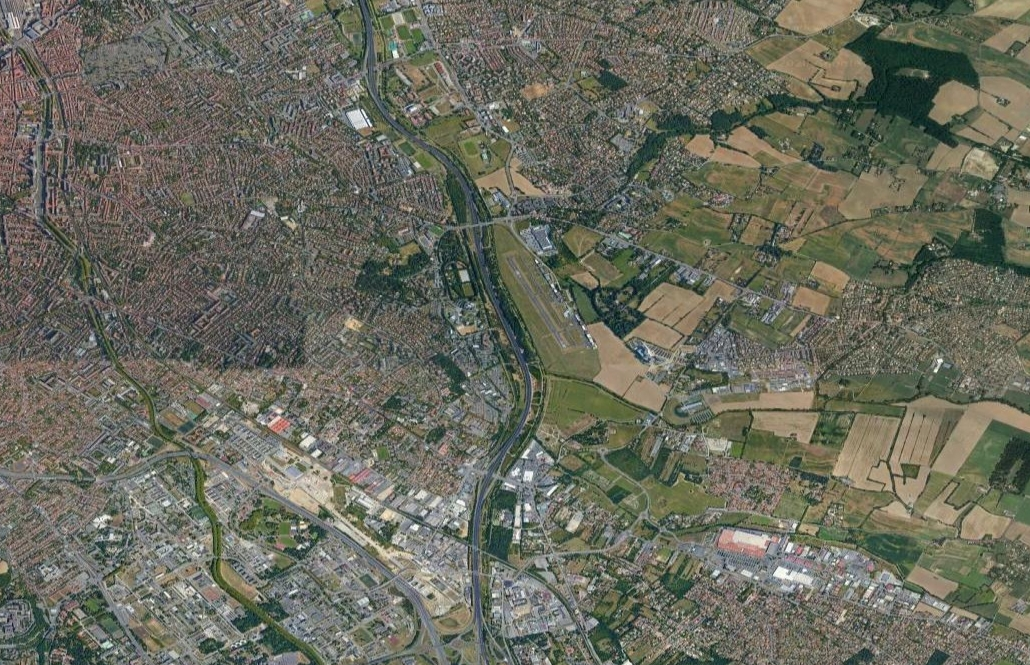airport: (504, 252, 600, 352)
motorway: (406, 584, 449, 664), (492, 302, 532, 386), (235, 468, 305, 515), (390, 116, 450, 164), (349, 541, 407, 588), (447, 162, 482, 235), (473, 510, 489, 665), (78, 454, 159, 483), (155, 449, 241, 475), (301, 506, 352, 546), (473, 232, 501, 303), (502, 386, 532, 452), (476, 449, 508, 509), (366, 42, 389, 119), (1, 469, 80, 484), (358, 1, 376, 43)
